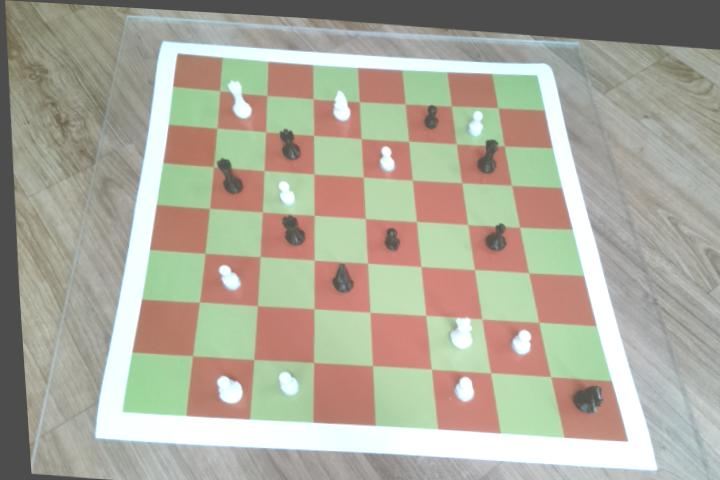chessboard-detect: (115, 50, 623, 432)
